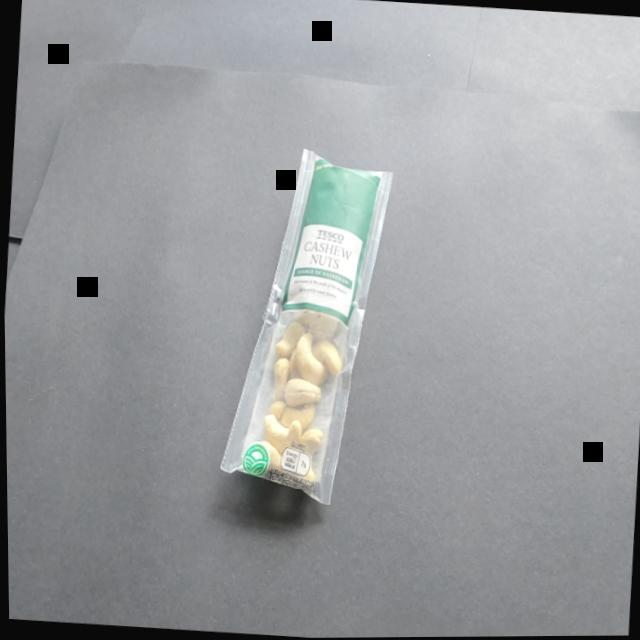Cashewnut: (202, 120, 412, 518)
